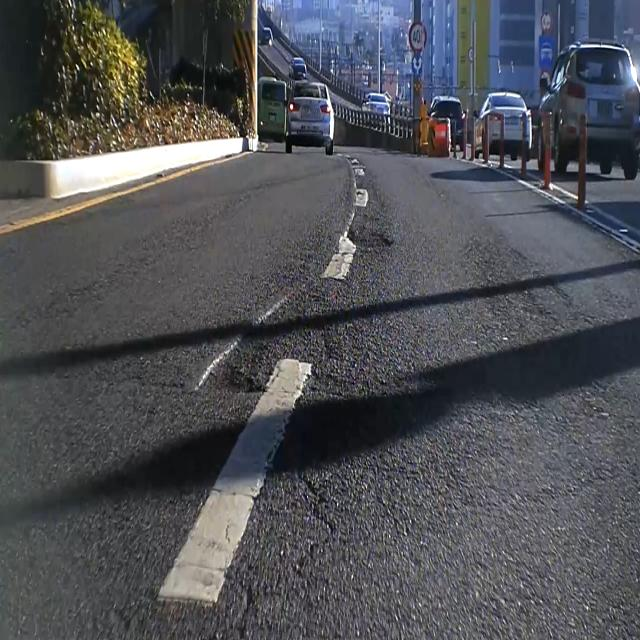Pothole: (212, 358, 269, 404), (344, 222, 394, 262)
